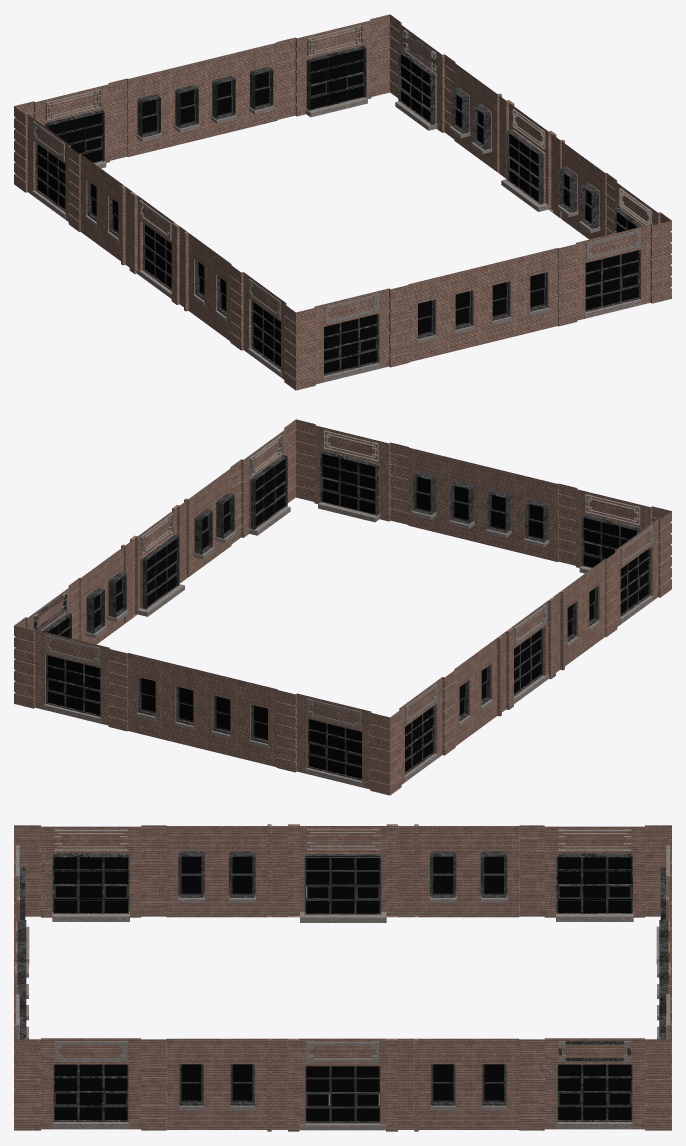
Rendered from BuildingB_Mid_Shell_VarA.fbx.
The picture shows the model from 3 angles, top to bottom: view 1: azimuth 30°, elevation 25°; view 2: azimuth 150°, elevation 25°; view 3: azimuth 270°, elevation 25°; orthographic projection. The views are drawn at different scales.
Parts seen in each view (by area): view 1: BuildingB_Mid_Shell_VarA; view 2: BuildingB_Mid_Shell_VarA; view 3: BuildingB_Mid_Shell_VarA.
Part boxes in pixels (x1,y1,x2,y2): BuildingB_Mid_Shell_VarA: (14,14,671,390); BuildingB_Mid_Shell_VarA: (14,419,671,795); BuildingB_Mid_Shell_VarA: (14,824,671,1131).
Bounding box in the file's own units: 2030 × 400 × 2614.
